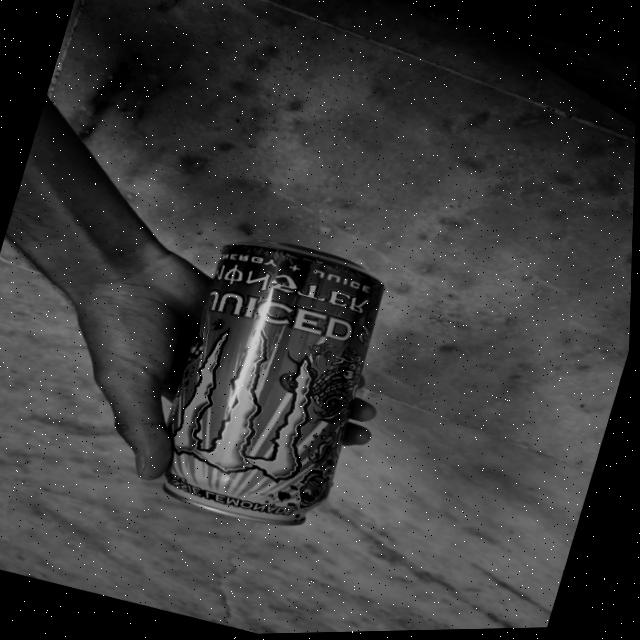Monster Aussie Lemonade: (143, 223, 405, 545)
